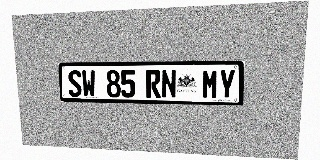5: (121, 70, 136, 98)
8: (106, 70, 121, 97)
M: (202, 69, 218, 99)
N: (161, 70, 176, 98)
R: (146, 70, 161, 98)
S: (68, 70, 82, 97)
W: (81, 70, 96, 97)
Y: (218, 69, 236, 99)
